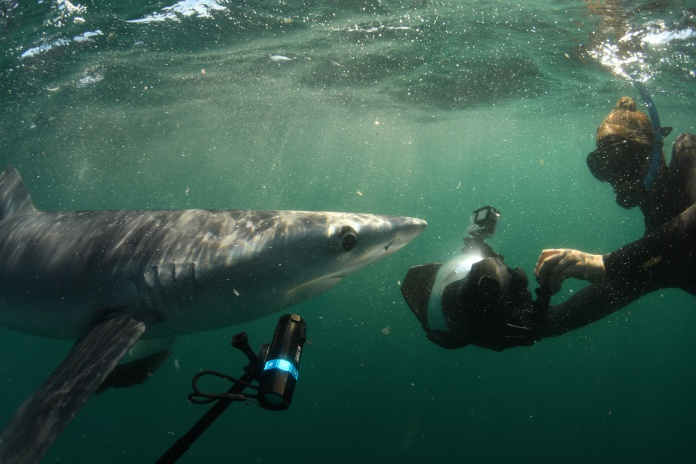Mako: (1, 148, 446, 464)
